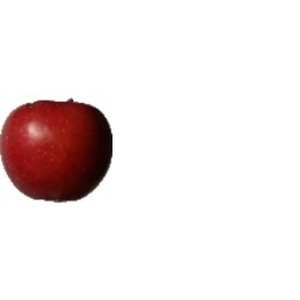maçã braeburn: (2, 95, 117, 204)
